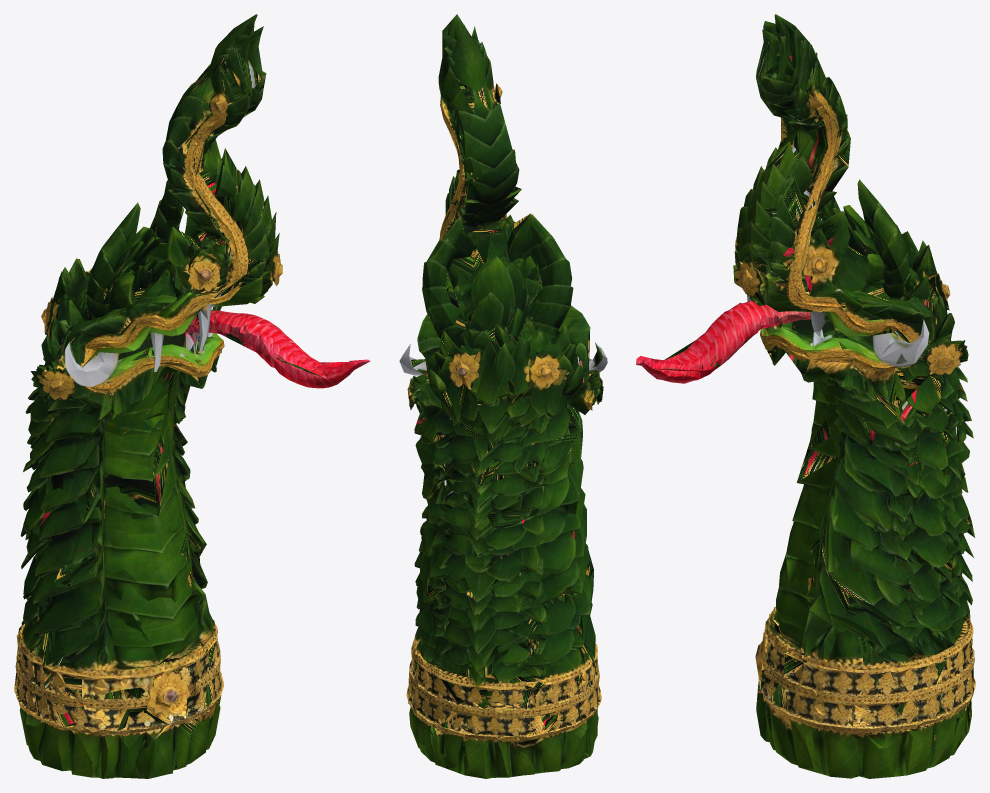
The model's file is w3naga.glb.
3 views of the same model, side by side, from view 1: azimuth 30°, elevation 25°; view 2: azimuth 150°, elevation 25°; view 3: azimuth 270°, elevation 25° (orthographic). The views are drawn at different scales.
Visible parts, largest first — view 1: w3naga_near, w3naga_far; view 2: w3naga_near, w3naga_far; view 3: w3naga_near, w3naga_far.
Part boxes in pixels (box(x1,y1,x2,y2)): w3naga_near: box(14, 14, 370, 778); w3naga_far: box(14, 23, 351, 778); w3naga_near: box(399, 14, 607, 778); w3naga_far: box(410, 14, 601, 777); w3naga_near: box(636, 14, 975, 778); w3naga_far: box(649, 14, 973, 776).
Size of the model in its own units: 0.2702 by 0.8 by 0.3171.
1 material, 1 textured.
